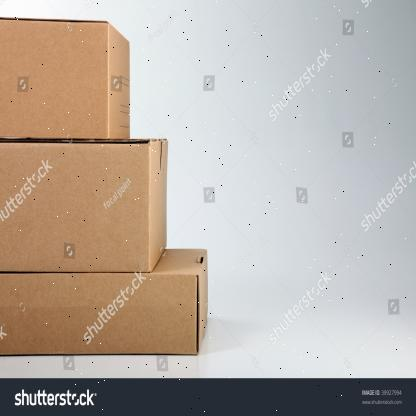box: (0, 141, 149, 273), (0, 272, 197, 355), (0, 19, 110, 142)
